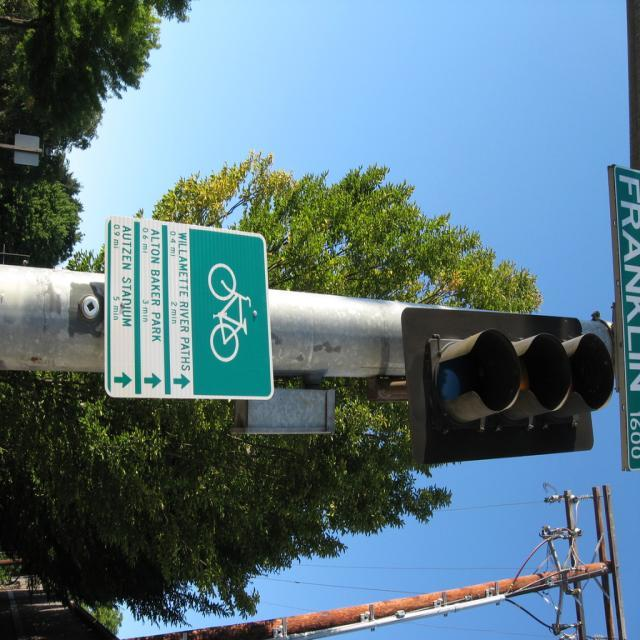traffic light: (402, 303, 607, 460)
